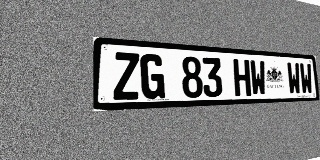3: (202, 57, 222, 97)
8: (181, 56, 203, 98)
G: (140, 53, 165, 99)
H: (233, 59, 251, 96)
W: (250, 60, 267, 96), (287, 62, 301, 95), (299, 63, 313, 94)
Z: (113, 52, 140, 100)
